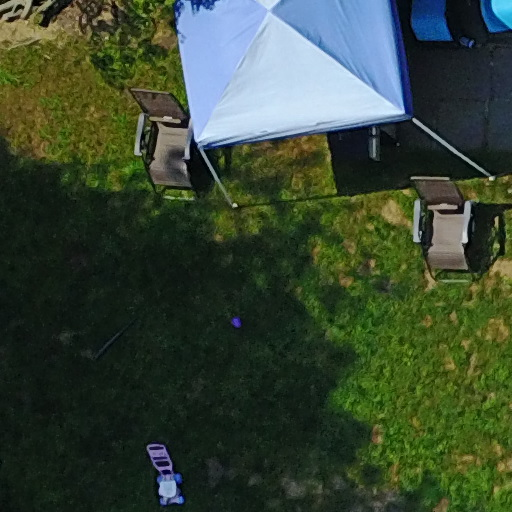tent: (158, 1, 512, 217)
